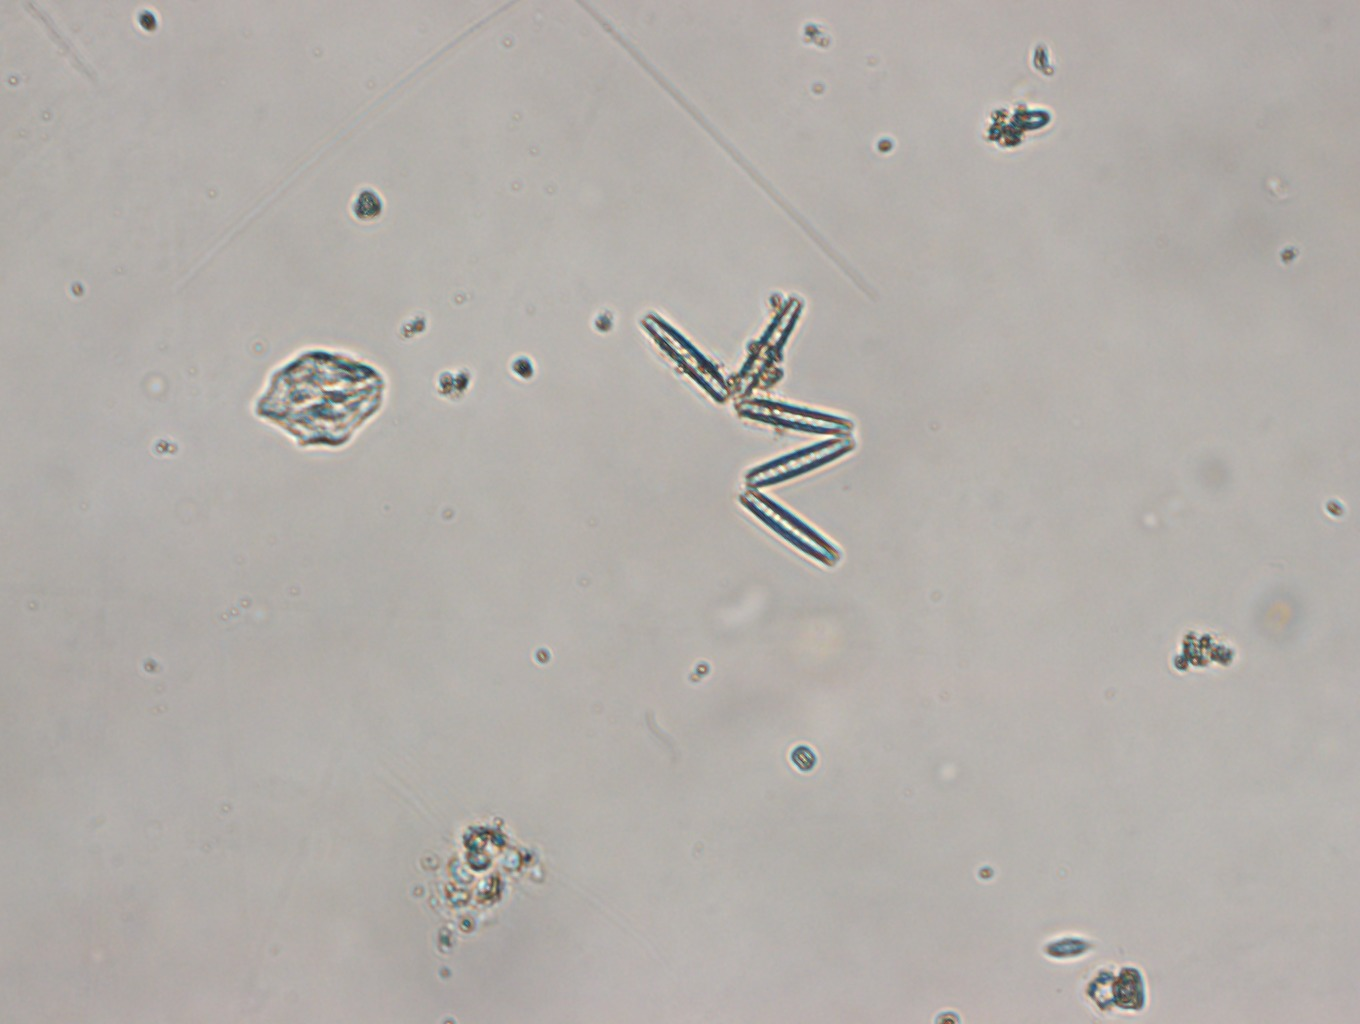thalassionema nitzschioides: (638, 291, 856, 584)
